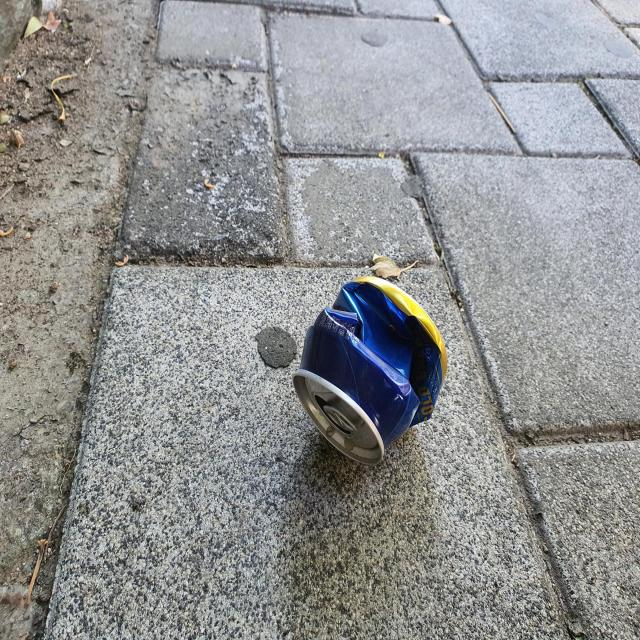can: (293, 276, 448, 465)
